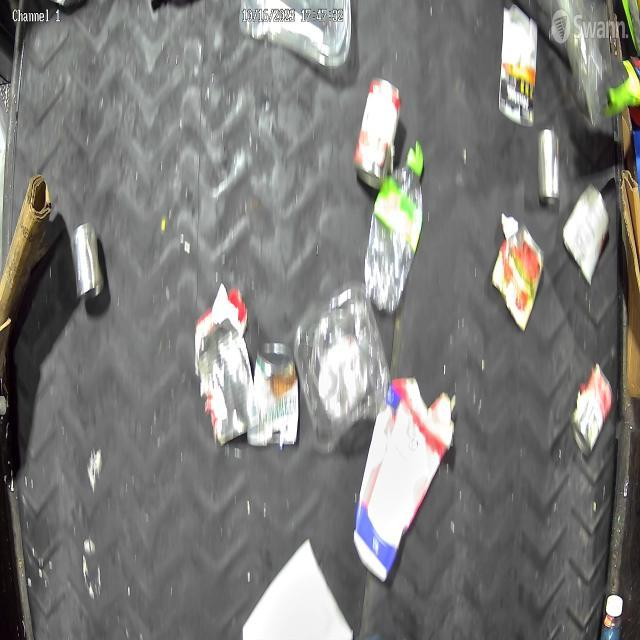can: (252, 343, 300, 446), (358, 77, 396, 186), (68, 218, 105, 304), (578, 364, 610, 452), (538, 128, 558, 196)
plastic_bottle: (366, 146, 424, 305)
